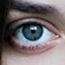eye: (23, 24, 43, 41)
